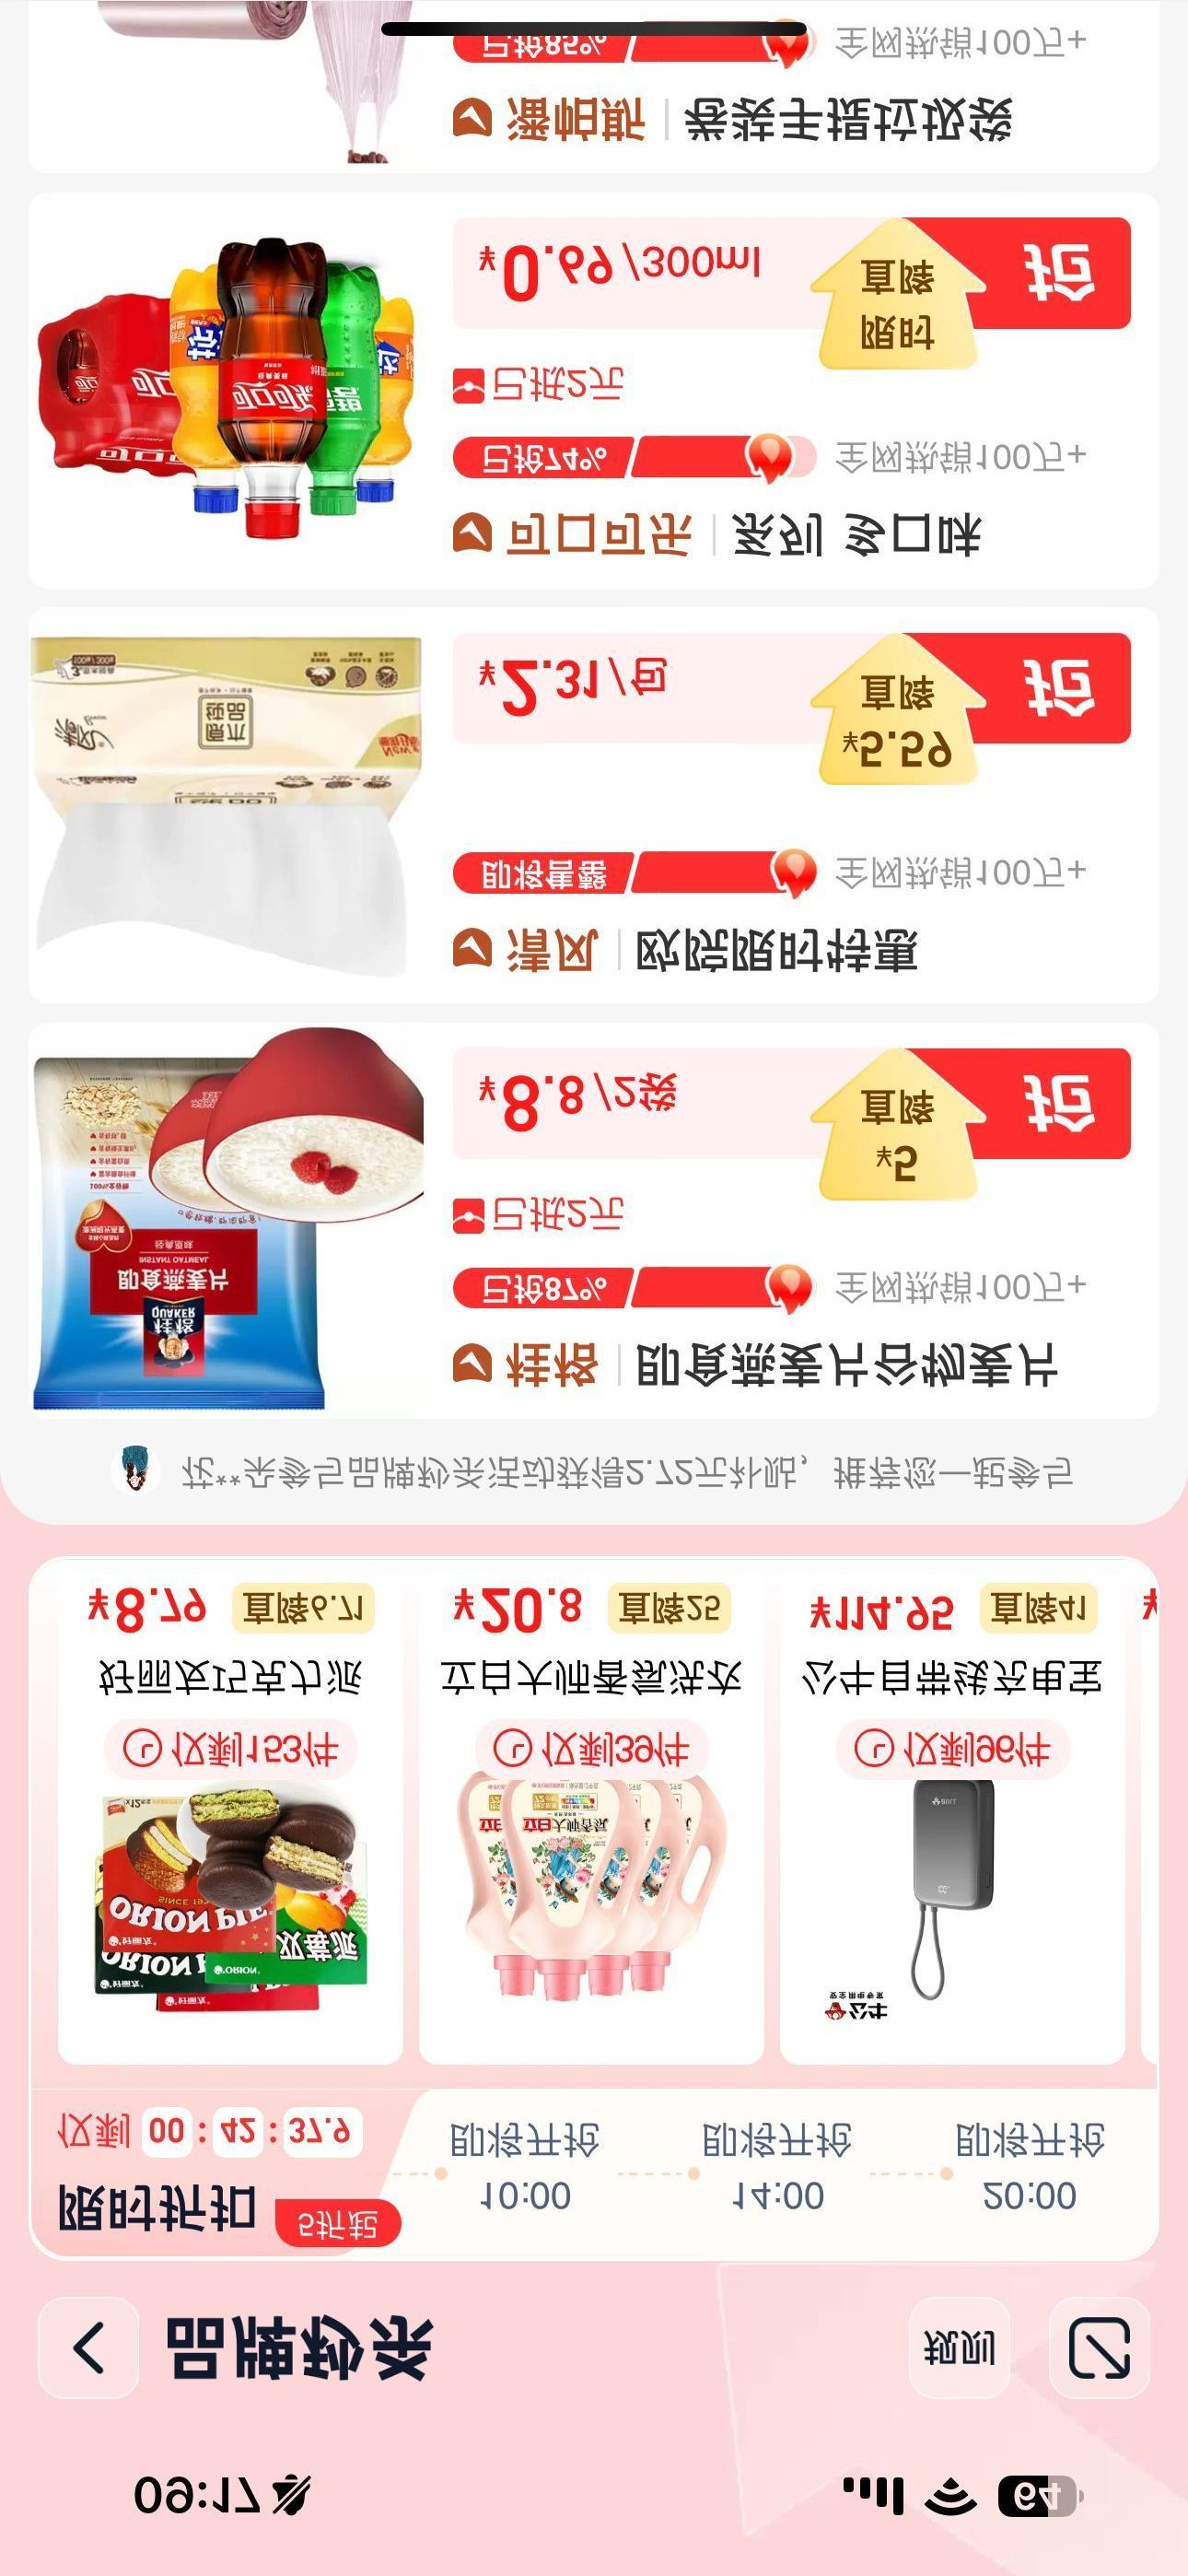item: (12, 1010, 1183, 1449), (12, 172, 1183, 590), (8, 598, 1181, 1009)
op_bar: (8, 2275, 1181, 2438)
seckill: (12, 1541, 1175, 2267)
